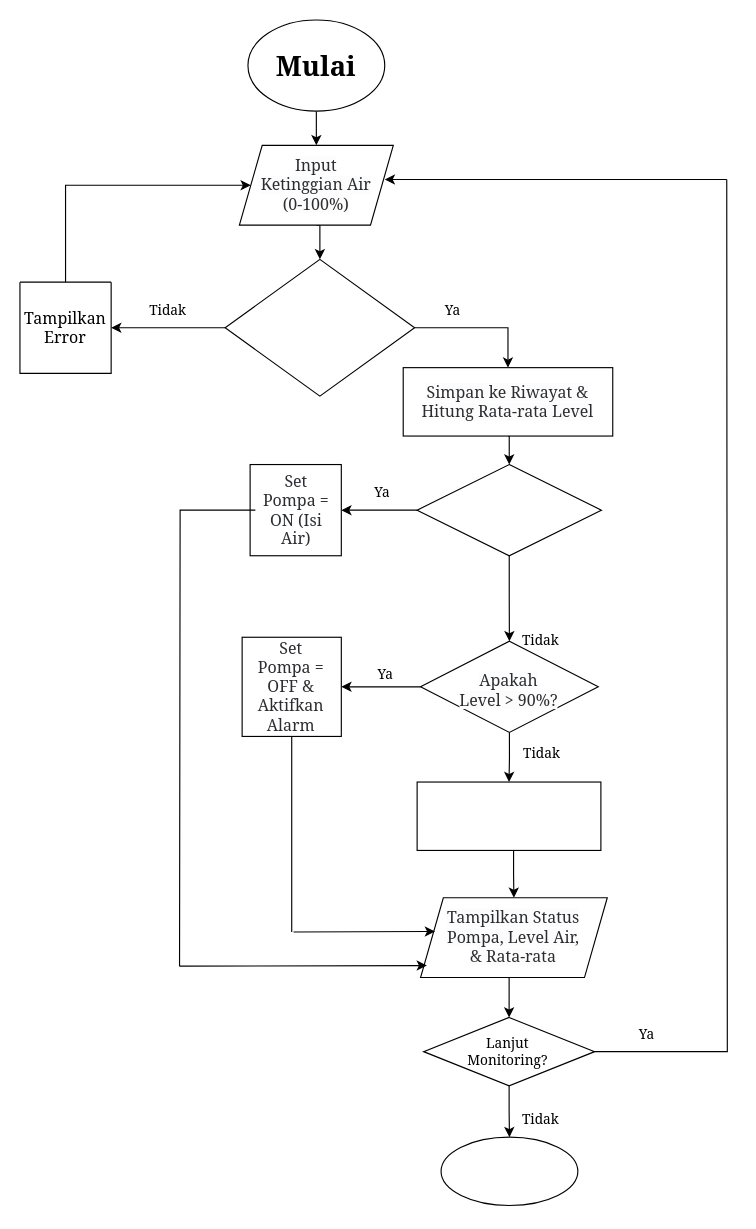
Image size: 756x1229. Some labels were removed from this diagram. The centre of each missing label's shape, as x and y in pixels:
"Apakah Input Angka & 0 <= x <= 100?" goes at [319,327].
"Apakah Level < 20%?" goes at [508,509].
"Selesai" goes at [509,1171].
"Status Pompa Tetap (Tidak Berubah)" goes at [508,815].
